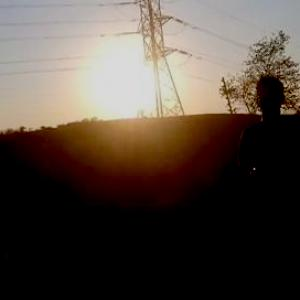follow: (230, 72, 299, 299)
